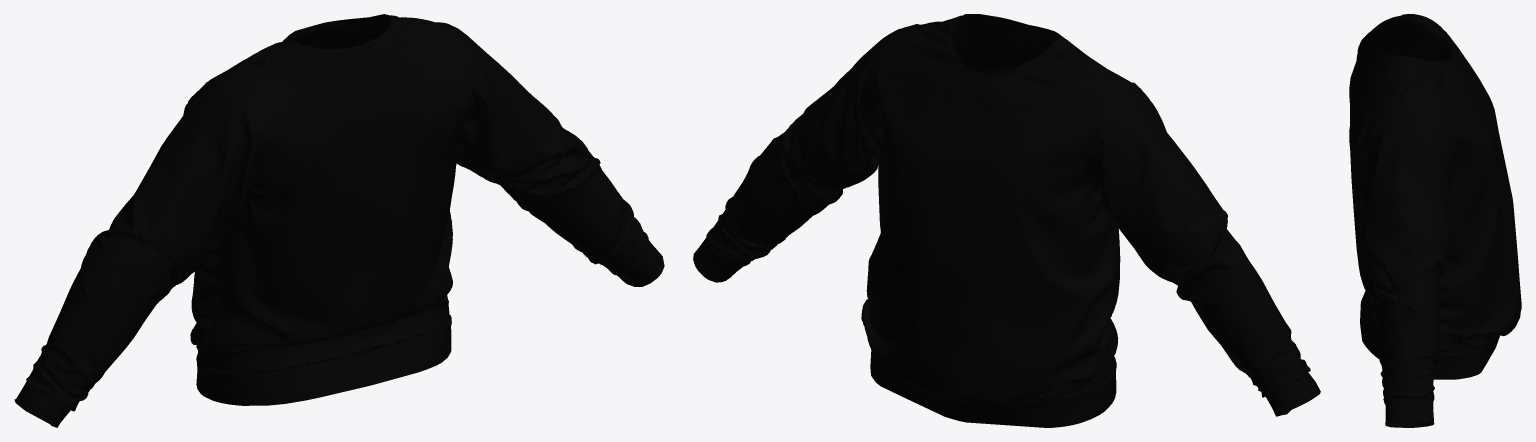
File: dimona_hoodie.glb
The picture shows the model from 3 angles, left to right: view 1: azimuth 30°, elevation 25°; view 2: azimuth 150°, elevation 25°; view 3: azimuth 270°, elevation 25°; orthographic projection. The views are drawn at different scales.
Parts seen in each view (by area): view 1: moletom_masculino_primitive1, moletom_masculino_primitive2, moletom_masculino_primitive3, moletom_masculino_primitive4, moletom_masculino_primitive0; view 2: moletom_masculino_primitive0, moletom_masculino_primitive2, moletom_masculino_primitive3, moletom_masculino_primitive4, moletom_masculino_primitive1; view 3: moletom_masculino_primitive3, moletom_masculino_primitive0, moletom_masculino_primitive1, moletom_masculino_primitive4, moletom_masculino_primitive2.
Boxes of the visible parts, bbox=[...] form: moletom_masculino_primitive1: bbox=[201, 19, 475, 373]; moletom_masculino_primitive2: bbox=[26, 80, 257, 411]; moletom_masculino_primitive3: bbox=[447, 23, 648, 275]; moletom_masculino_primitive4: bbox=[14, 14, 664, 427]; moletom_masculino_primitive0: bbox=[190, 15, 456, 362]; moletom_masculino_primitive0: bbox=[861, 16, 1121, 403]; moletom_masculino_primitive2: bbox=[1086, 81, 1310, 397]; moletom_masculino_primitive3: bbox=[706, 28, 900, 267]; moletom_masculino_primitive4: bbox=[693, 14, 1320, 427]; moletom_masculino_primitive1: bbox=[921, 15, 1130, 383]; moletom_masculino_primitive3: bbox=[1356, 107, 1454, 403]; moletom_masculino_primitive0: bbox=[1399, 14, 1521, 353]; moletom_masculino_primitive1: bbox=[1349, 15, 1403, 325]; moletom_masculino_primitive4: bbox=[1360, 16, 1499, 427]; moletom_masculino_primitive2: bbox=[1356, 14, 1453, 61].
Size of the model in its own units: 57.45 by 31.54 by 16.08.
Materials: 5 (5 with a texture image).
